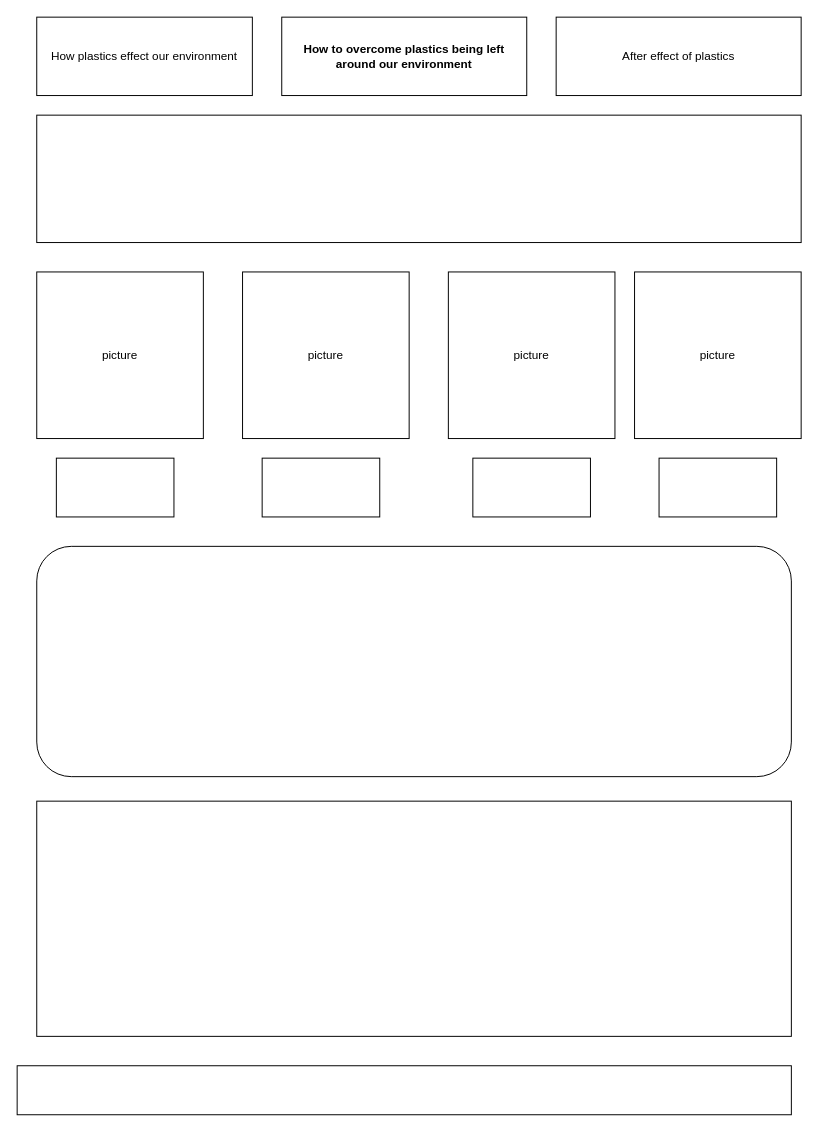
Image size: 818x1132. Some labels were removed from this diagram. Each missing label, with the centre of its shape:
"by ..." goes at [403,1090].
"information" goes at [413,661].
"Littering" goes at [418,178].
